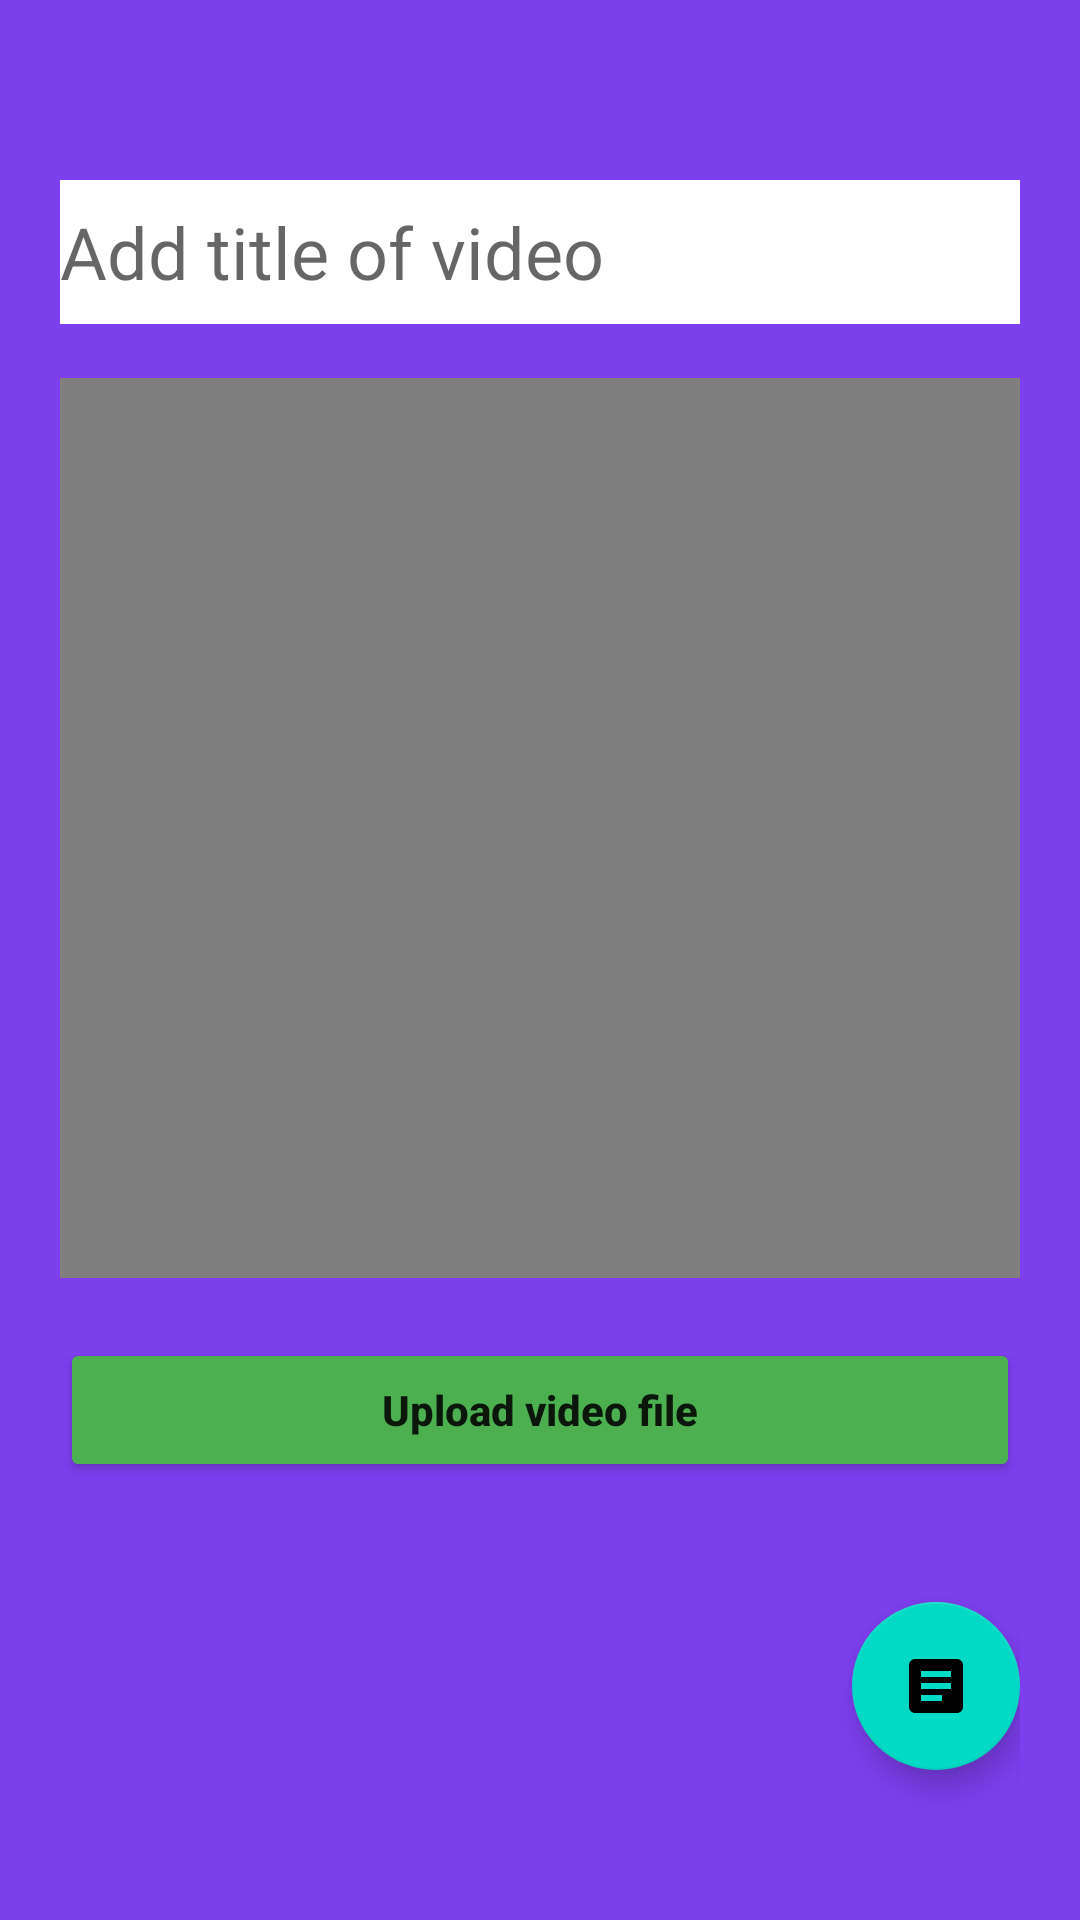

Named icons in this screenshot (1080px×1920px) and their bounding boxes, (x1, y1, x2, y2):
article: (852, 1602, 1020, 1770)
